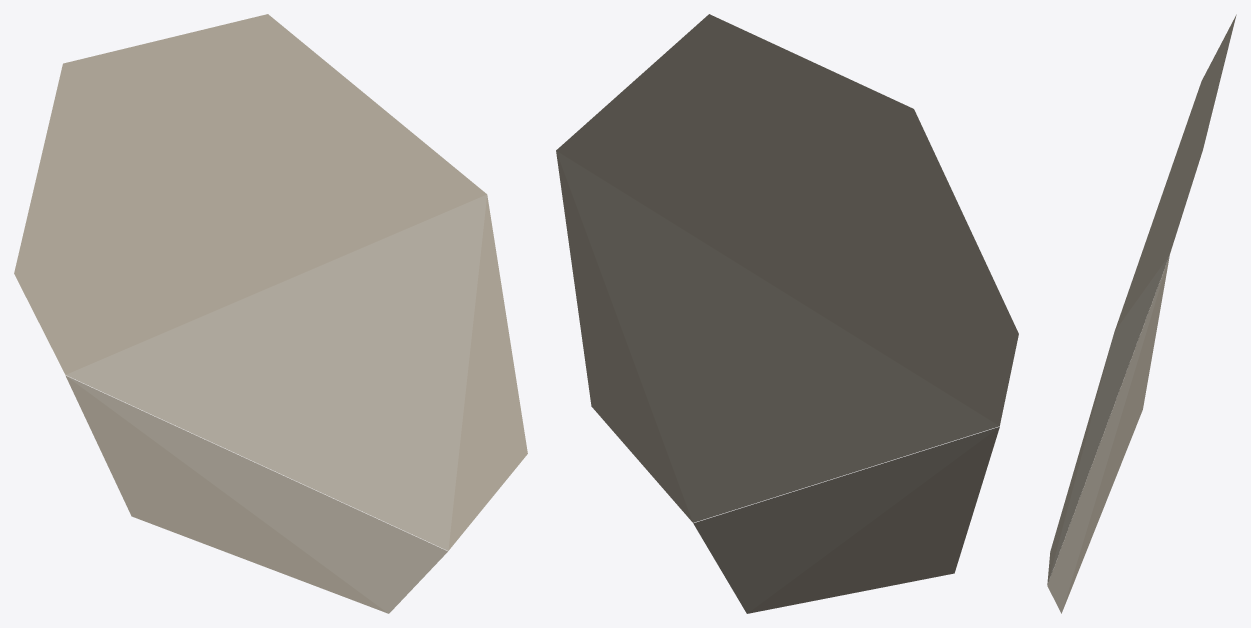
File: SM_MS3_Feed_Eco_00_2.fbx
3 views of the same model, side by side, from view 1: azimuth 30°, elevation 25°; view 2: azimuth 150°, elevation 25°; view 3: azimuth 270°, elevation 25° (orthographic). The views are drawn at different scales.
Visible parts, largest first — view 1: SM_MS3_Feed_Eco_00_2; view 2: SM_MS3_Feed_Eco_00_2; view 3: SM_MS3_Feed_Eco_00_2.
Boxes of the visible parts, <box> form: SM_MS3_Feed_Eco_00_2: <box>14,14,527,613</box>; SM_MS3_Feed_Eco_00_2: <box>556,14,1018,613</box>; SM_MS3_Feed_Eco_00_2: <box>1047,14,1236,613</box>.
Size of the model in its own units: 2.96 by 1.22 by 3.65.
